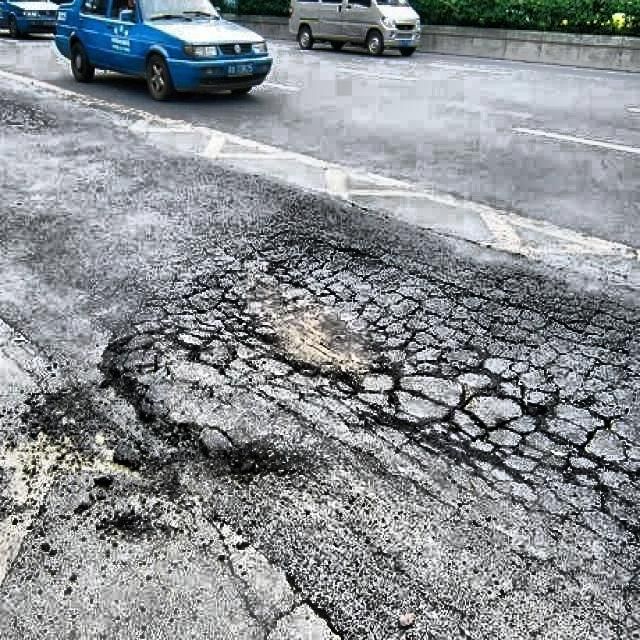buraco: (68, 362, 270, 526), (227, 252, 373, 381)
